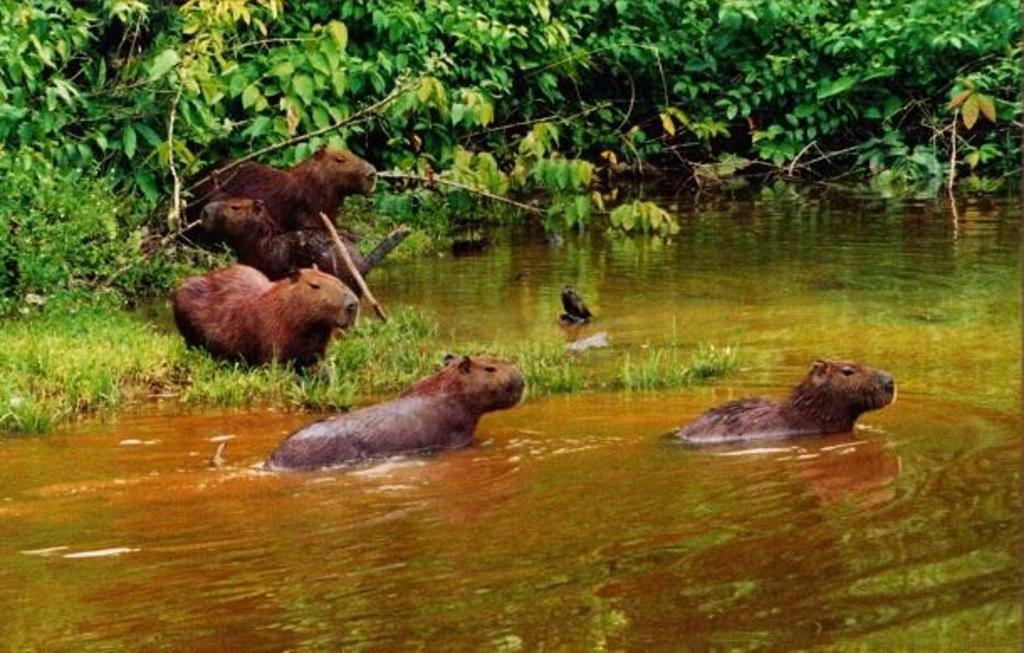Animal: (214, 360, 523, 481), (158, 244, 382, 369), (187, 195, 406, 303), (664, 358, 899, 439), (182, 152, 375, 224)
